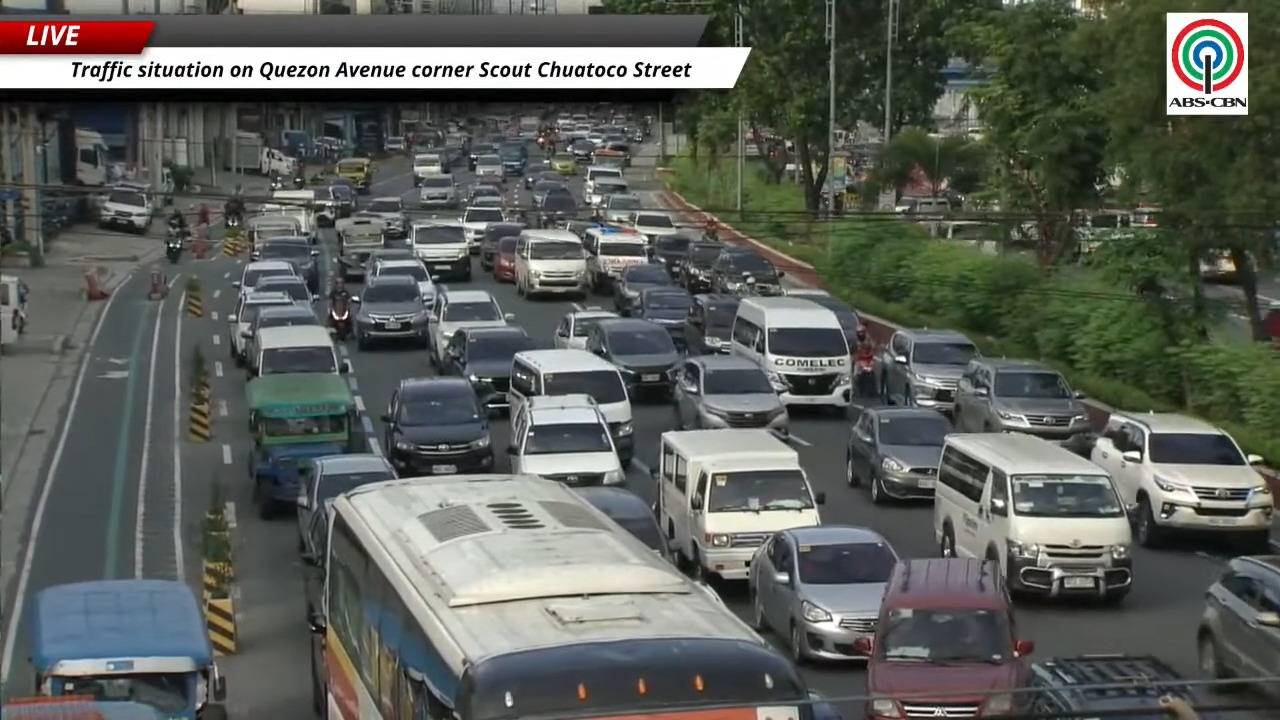bus: (311, 475, 811, 719)
car: (854, 558, 1034, 717), (1090, 412, 1273, 551), (748, 525, 897, 661), (952, 357, 1093, 453), (1027, 653, 1213, 719), (381, 377, 493, 474), (508, 395, 624, 486), (1196, 554, 1279, 680), (297, 453, 395, 558), (846, 407, 952, 503), (673, 355, 788, 436), (876, 329, 980, 411), (440, 325, 535, 410), (585, 318, 681, 395), (574, 487, 669, 559), (428, 289, 514, 367), (352, 275, 428, 349), (227, 291, 295, 366), (786, 289, 861, 347), (242, 303, 320, 357), (630, 286, 691, 350), (252, 237, 319, 293), (711, 245, 783, 295), (684, 293, 739, 354), (613, 263, 673, 316), (372, 258, 435, 304), (553, 307, 618, 348), (99, 186, 153, 233), (677, 238, 723, 293), (652, 229, 699, 277), (232, 260, 296, 295), (462, 205, 506, 254), (480, 222, 523, 270), (362, 196, 408, 237), (255, 276, 317, 305), (628, 210, 680, 244), (537, 188, 578, 227), (364, 247, 417, 276), (419, 174, 459, 208), (600, 193, 642, 223), (310, 186, 341, 226), (492, 237, 517, 282), (328, 178, 356, 217), (531, 179, 568, 206), (474, 153, 505, 182), (466, 182, 503, 205), (523, 162, 551, 188), (569, 138, 595, 164), (471, 196, 506, 210), (383, 136, 405, 152)
motorcycle: (328, 301, 351, 340), (853, 357, 874, 397), (165, 237, 183, 263), (166, 222, 189, 241), (739, 272, 757, 296), (224, 211, 241, 229), (292, 174, 306, 189), (270, 176, 285, 190)
truck: (28, 580, 226, 719), (224, 131, 296, 176), (74, 128, 110, 186), (223, 132, 265, 172), (280, 130, 310, 157)
